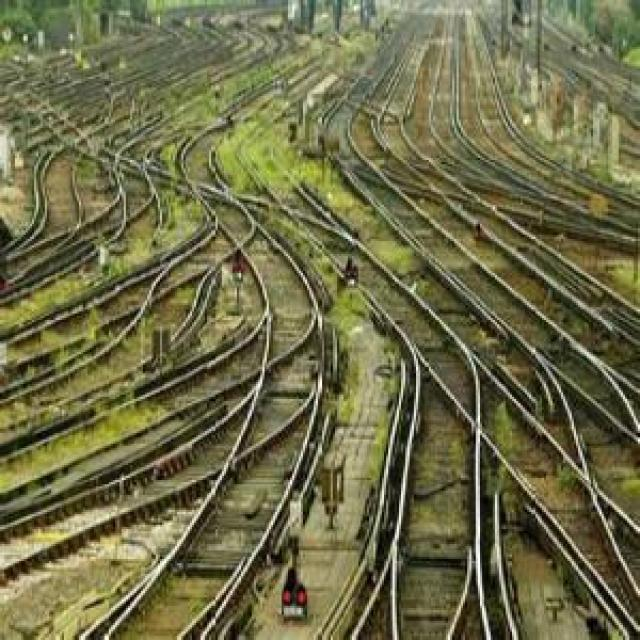rail: (0, 1, 640, 640)
